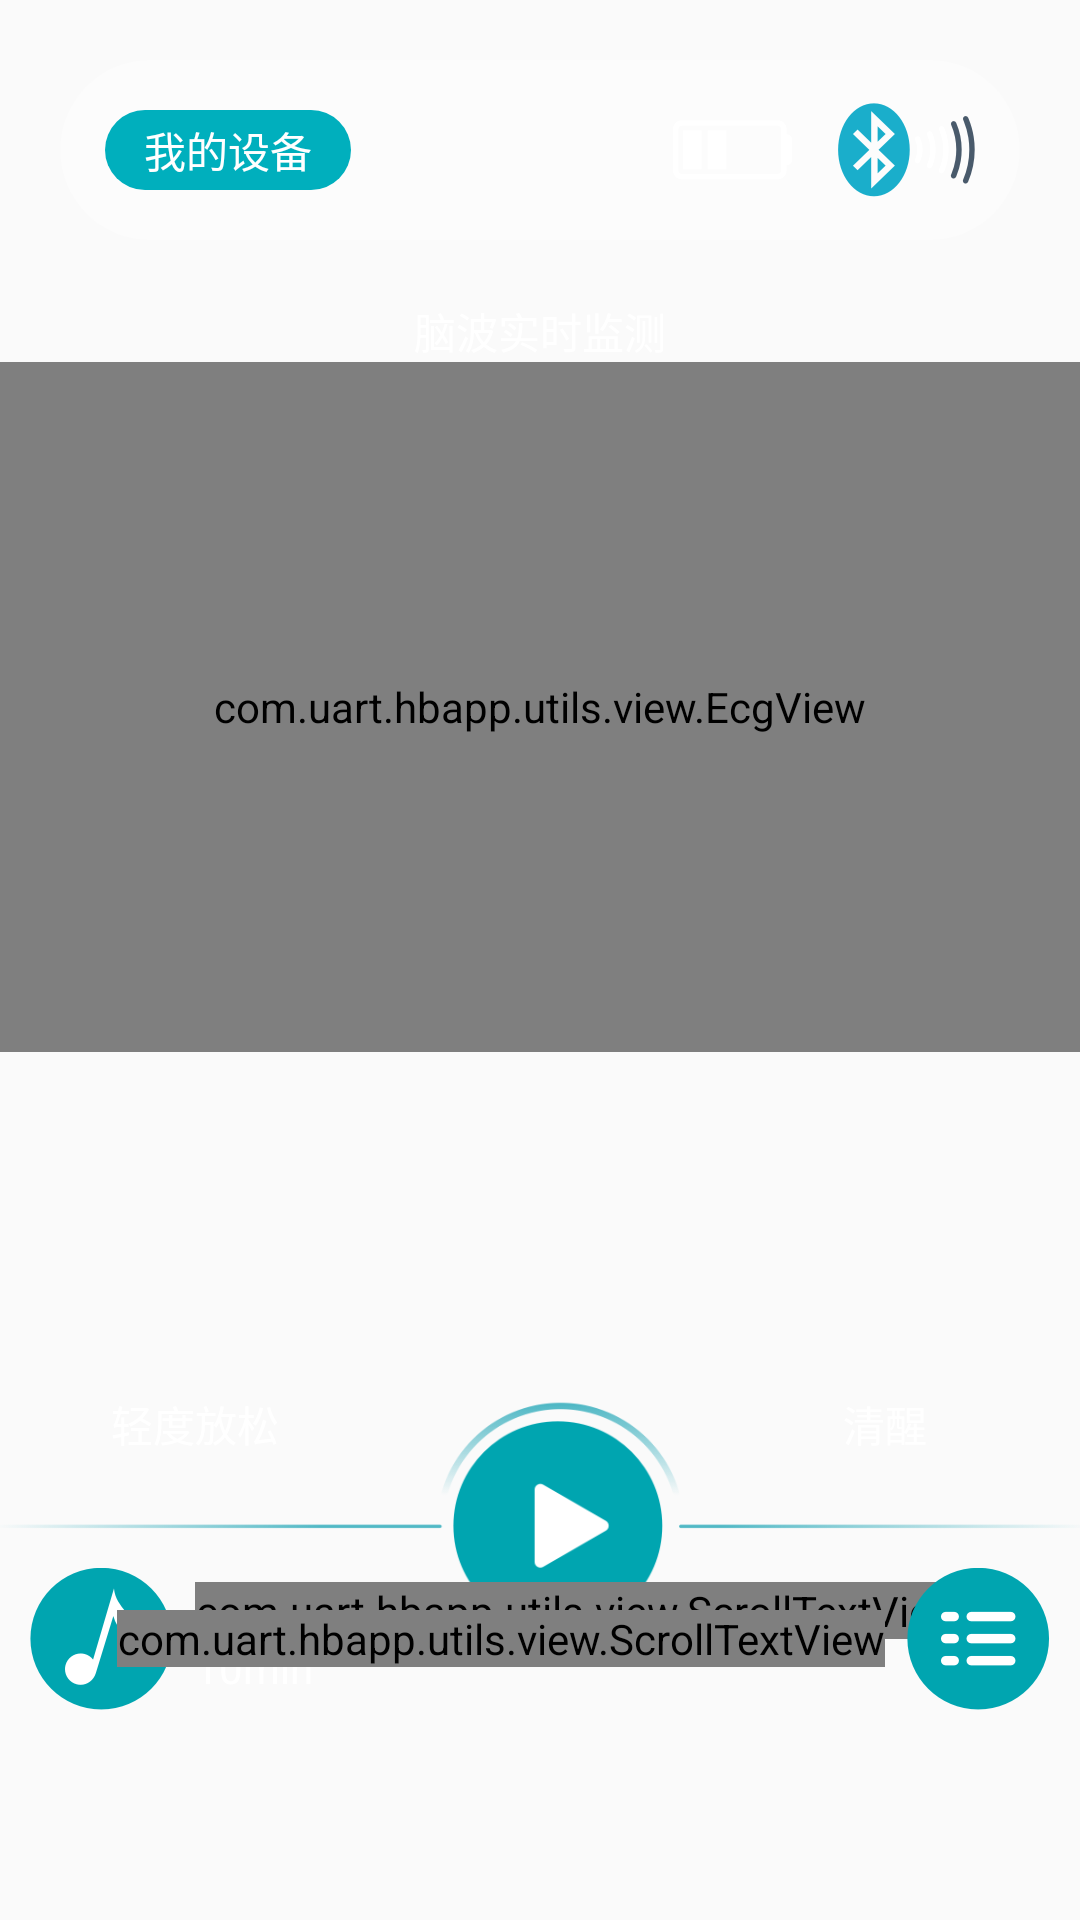

Point at icon controls on the screen. Image size 1080px×1920px, points as (x,y).
menu: (978,1639)
music rotate: (101,1639)
play: (558,1526)
